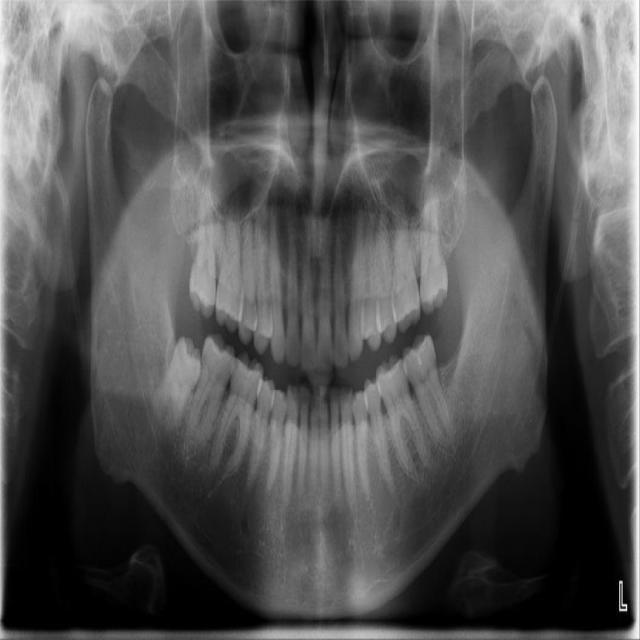73: (590, 570, 596, 579)
BioHorizons Implant: (418, 180, 453, 315)
Blue Sky Bio Implant: (398, 330, 457, 452)
Caries: (188, 176, 220, 320)
Implant: (181, 332, 241, 452)
Keystone Dental Implant: (141, 333, 214, 437)
